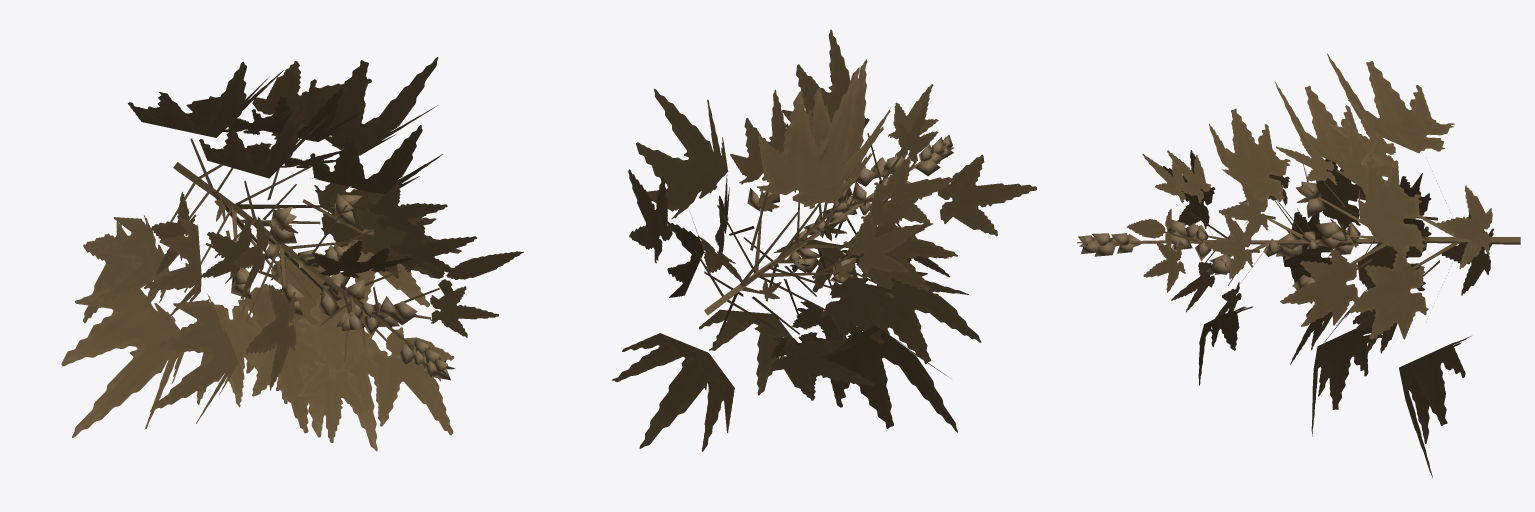
Rendered from p_male_tree_ripe_c3_cards.obj.
The picture shows the model from 3 angles, left to right: view 1: azimuth 30°, elevation 25°; view 2: azimuth 150°, elevation 25°; view 3: azimuth 270°, elevation 25°; orthographic projection. The views are drawn at different scales.
Bounding box in the file's own units: 1.45 × 1.49 × 1.5.
Materials: 1 (1 with a texture image).
